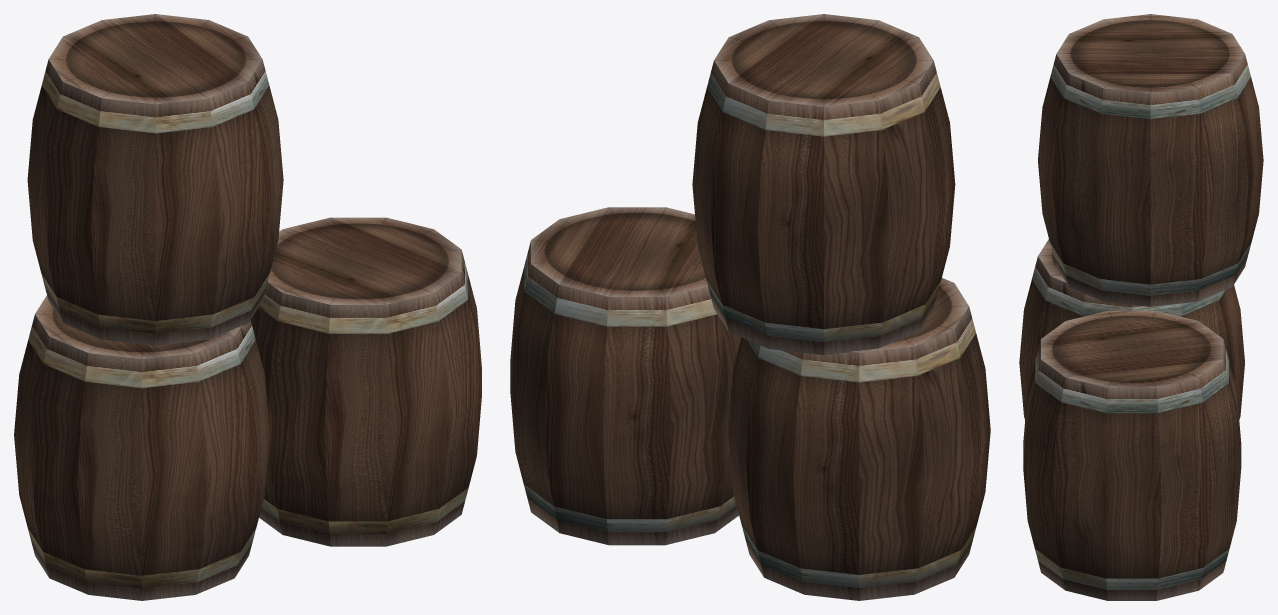
The model's file is keg_2.fbx.
The picture shows the model from 3 angles, left to right: view 1: azimuth 30°, elevation 25°; view 2: azimuth 150°, elevation 25°; view 3: azimuth 270°, elevation 25°; orthographic projection. The views are drawn at different scales.
Visible parts, largest first — view 1: pCylinder3, pCylinder2, pCylinder1; view 2: pCylinder3, pCylinder2, pCylinder1; view 3: pCylinder3, pCylinder2, pCylinder1.
Boxes of the visible parts, x1,y1,x2,y2 form: pCylinder3: (27, 14, 283, 345); pCylinder2: (250, 217, 481, 546); pCylinder1: (14, 295, 269, 600); pCylinder3: (692, 14, 955, 354); pCylinder2: (510, 207, 741, 545); pCylinder1: (728, 278, 990, 600); pCylinder3: (1038, 14, 1263, 306); pCylinder2: (1023, 310, 1241, 600); pCylinder1: (1019, 239, 1244, 419).
Size of the model in its own units: 3.76 by 4 by 2.08.
